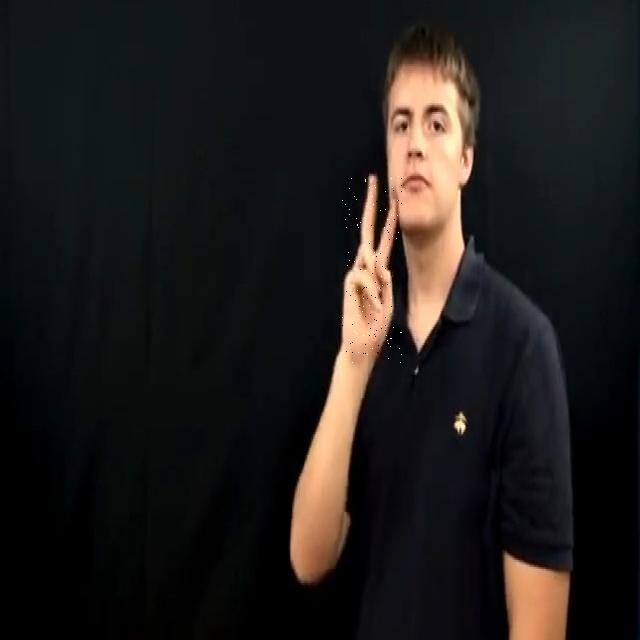vegetables: (342, 173, 402, 363)
